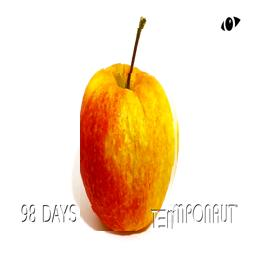Apple Fresh: (81, 2, 181, 231)
